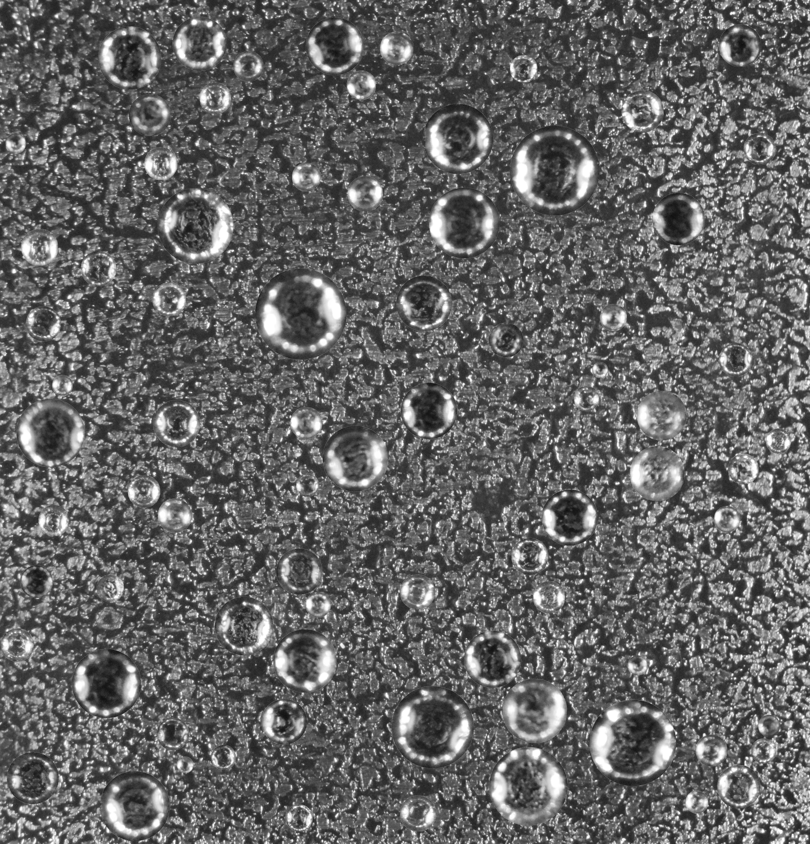Bubble: (255, 268, 346, 359), (510, 125, 599, 215), (589, 699, 676, 786), (391, 686, 473, 768), (489, 747, 567, 825), (157, 188, 233, 263), (429, 187, 499, 258), (99, 771, 169, 841), (423, 103, 493, 173), (71, 649, 140, 718), (16, 398, 84, 467), (322, 425, 388, 491), (502, 678, 566, 743), (273, 629, 336, 692), (98, 26, 161, 89), (214, 596, 273, 655), (305, 17, 363, 75), (400, 382, 457, 439), (464, 630, 521, 687), (541, 489, 597, 545), (396, 275, 451, 331), (172, 16, 226, 70), (630, 446, 684, 500), (652, 192, 704, 245), (6, 752, 58, 804), (637, 390, 686, 440), (276, 548, 322, 594), (153, 400, 199, 446), (261, 699, 306, 744), (717, 765, 760, 808), (719, 24, 761, 66), (621, 90, 663, 132), (128, 94, 170, 135), (511, 538, 548, 574), (21, 228, 57, 265), (400, 795, 436, 831), (80, 250, 116, 286), (347, 176, 382, 211), (488, 322, 523, 357), (25, 306, 60, 341), (400, 574, 434, 609), (157, 498, 191, 532), (152, 282, 185, 316), (144, 147, 177, 180), (0, 628, 33, 661), (380, 31, 413, 64), (719, 343, 752, 376), (127, 475, 160, 507), (695, 734, 727, 766), (156, 718, 188, 750), (533, 581, 565, 613), (743, 132, 775, 164), (20, 565, 52, 597), (199, 82, 231, 113), (290, 407, 322, 438), (38, 505, 69, 536), (728, 453, 758, 484), (233, 51, 263, 81), (346, 70, 375, 99), (292, 162, 320, 191), (510, 55, 537, 82), (96, 574, 123, 601), (285, 804, 312, 831), (600, 304, 626, 330), (714, 506, 740, 532), (574, 385, 599, 411), (766, 428, 791, 453), (751, 738, 776, 763), (305, 592, 330, 617), (211, 745, 235, 769), (685, 790, 708, 813), (296, 473, 318, 496), (758, 715, 780, 736), (5, 133, 25, 153), (627, 655, 647, 675), (52, 375, 72, 395), (177, 756, 193, 773), (592, 362, 608, 377), (494, 40, 504, 50), (339, 703, 349, 713)
